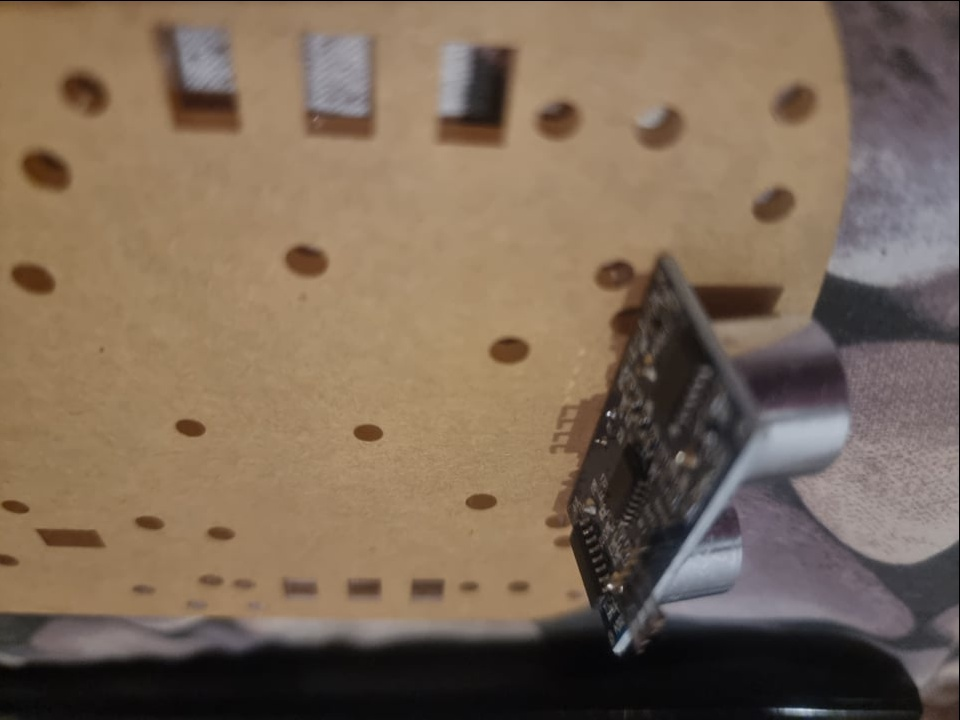SENSOR: (561, 252, 854, 654)
